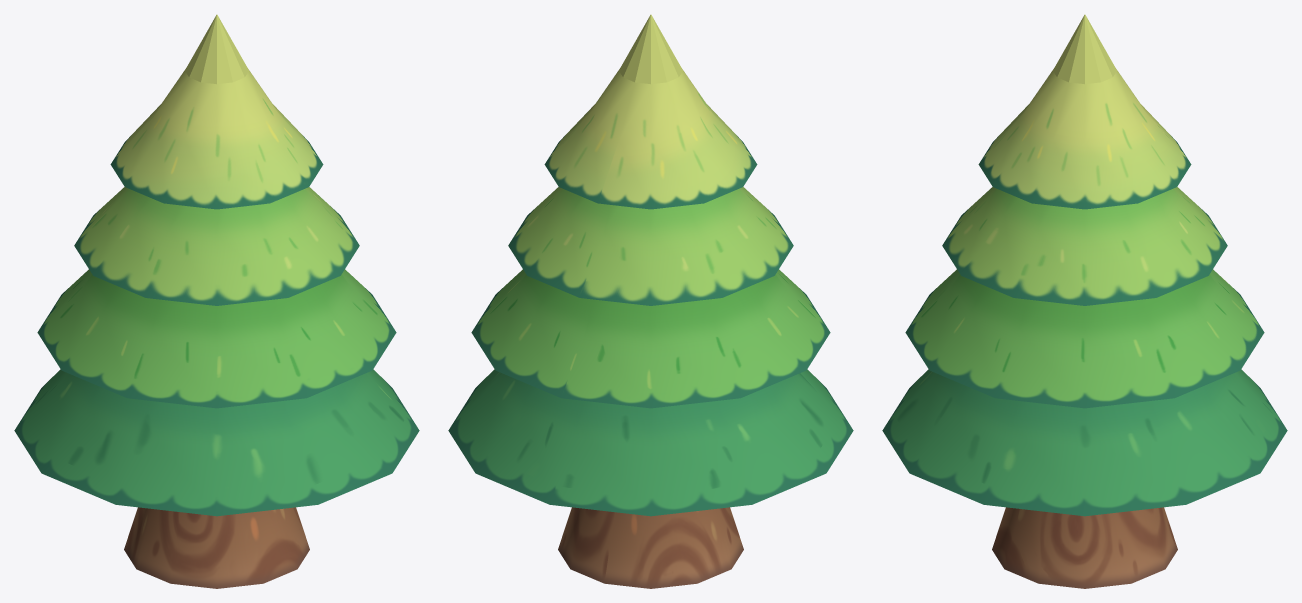
The model's file is tree.fbx.
3 views of the same model, side by side, from view 1: azimuth 30°, elevation 25°; view 2: azimuth 150°, elevation 25°; view 3: azimuth 270°, elevation 25° (orthographic).
Visible parts, largest first — view 1: tree; view 2: tree; view 3: tree.
Boxes of the visible parts, box(x1,y1,x2,y2) form: tree: box(14, 14, 419, 588); tree: box(448, 14, 853, 588); tree: box(882, 14, 1287, 588).
Bounding box in the file's own units: 216 × 315 × 216.
